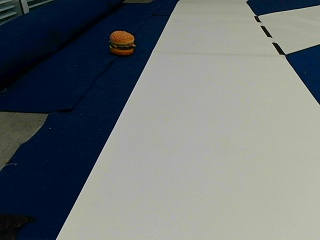burger: (109, 29, 136, 55)
